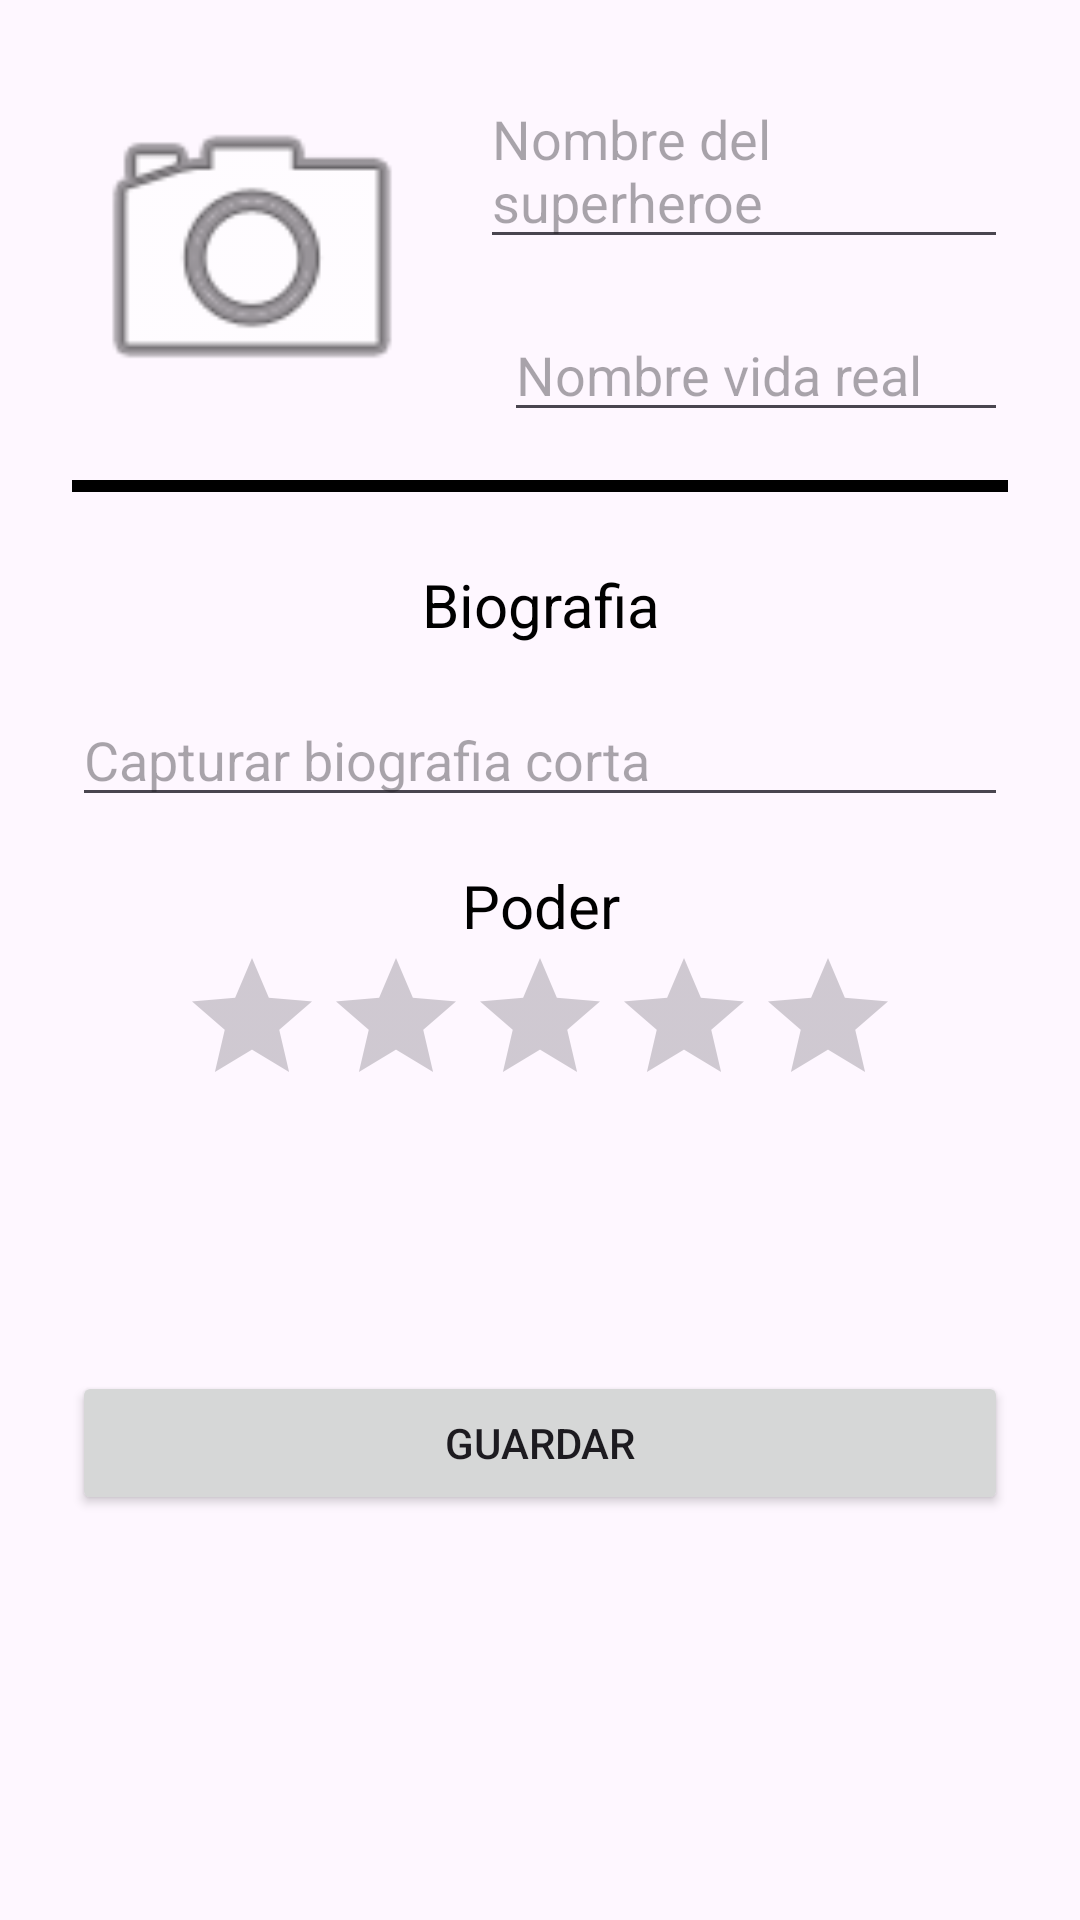

Screen size 1080×1920. Icon name, then its center in pixels as (x=x, y=y):
camera: (x=252, y=246)
